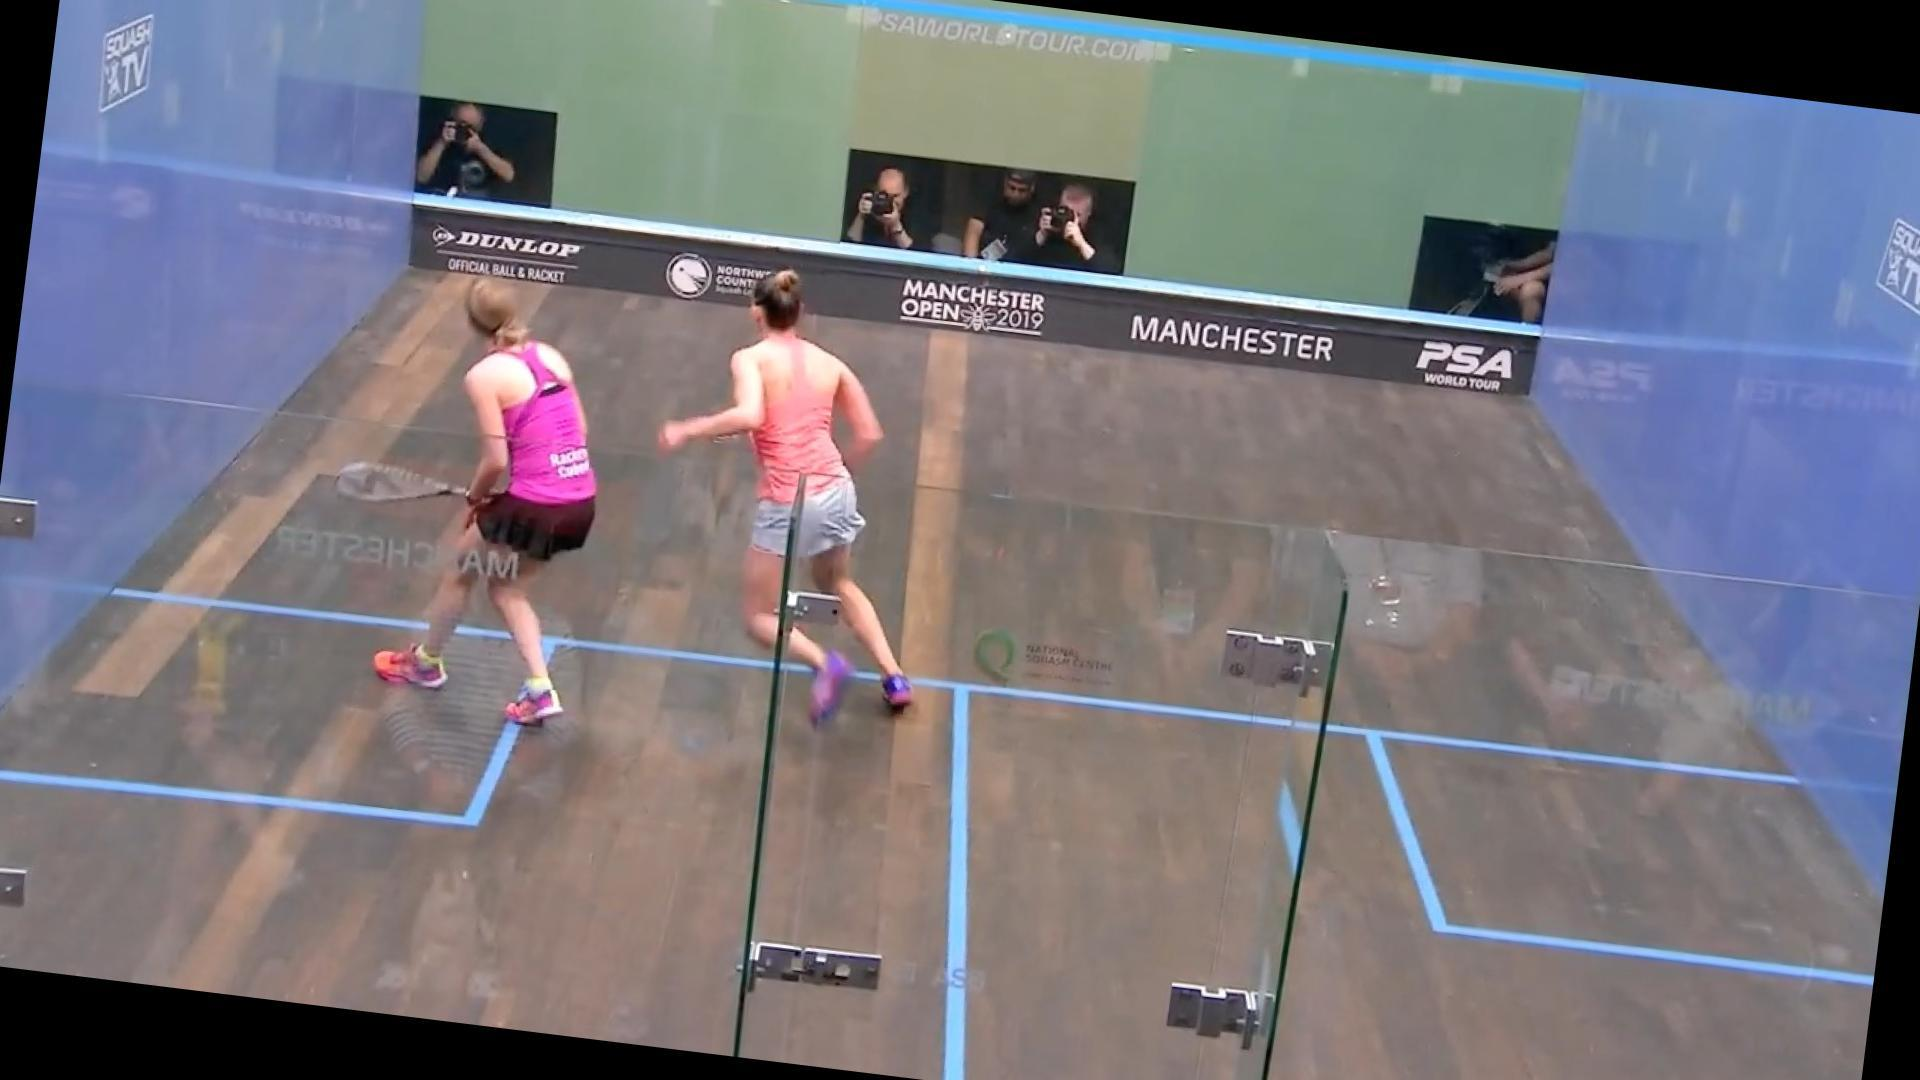Squash-Ball: (430, 175, 468, 210)
